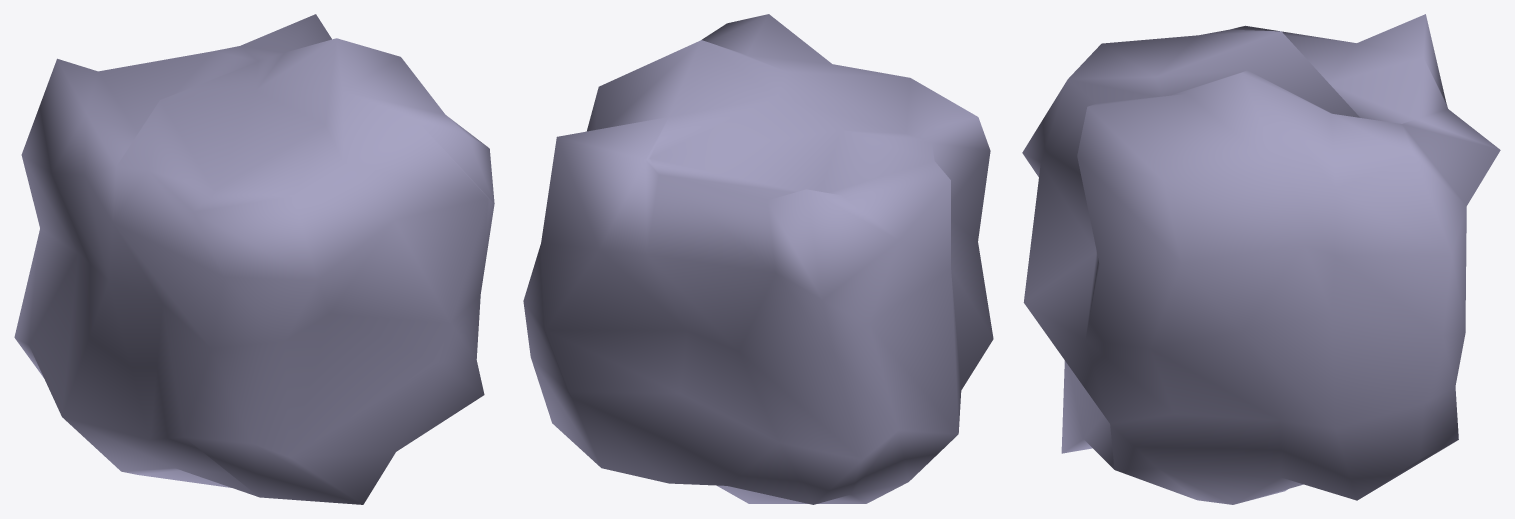
File: rock.fbx
The picture shows the model from 3 angles, left to right: view 1: azimuth 30°, elevation 25°; view 2: azimuth 150°, elevation 25°; view 3: azimuth 270°, elevation 25°; orthographic projection. The views are drawn at different scales.
Visible parts, largest first — view 1: 큐브.001; view 2: 큐브.001; view 3: 큐브.001.
Boxes of the visible parts, x1,y1,x2,y2 form: 큐브.001: (14,14,494,504); 큐브.001: (523,14,993,504); 큐브.001: (1022,14,1500,504).
Size of the model in its own units: 1600 by 1643 by 1572.
